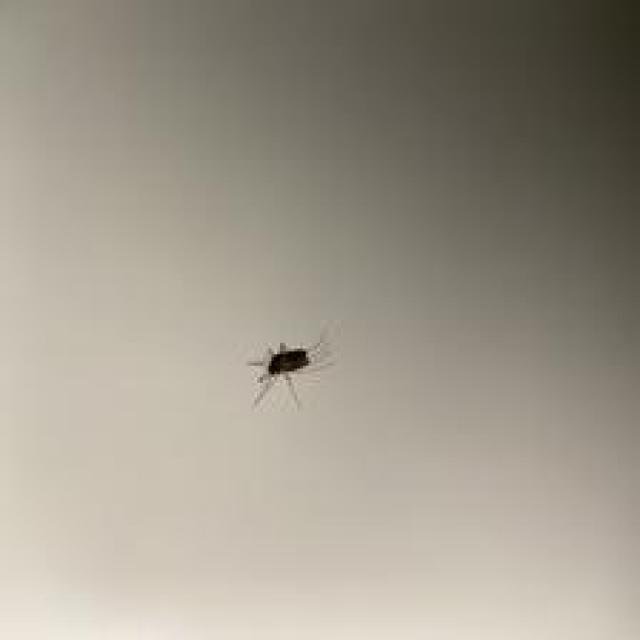Culex: (246, 328, 331, 408)
